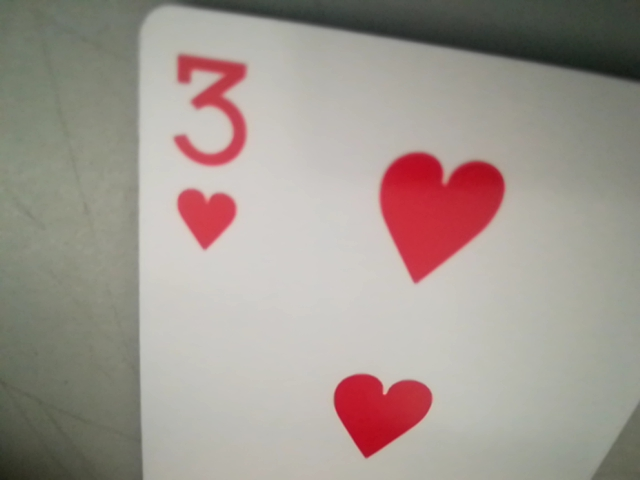hx 3: (164, 48, 251, 251)
